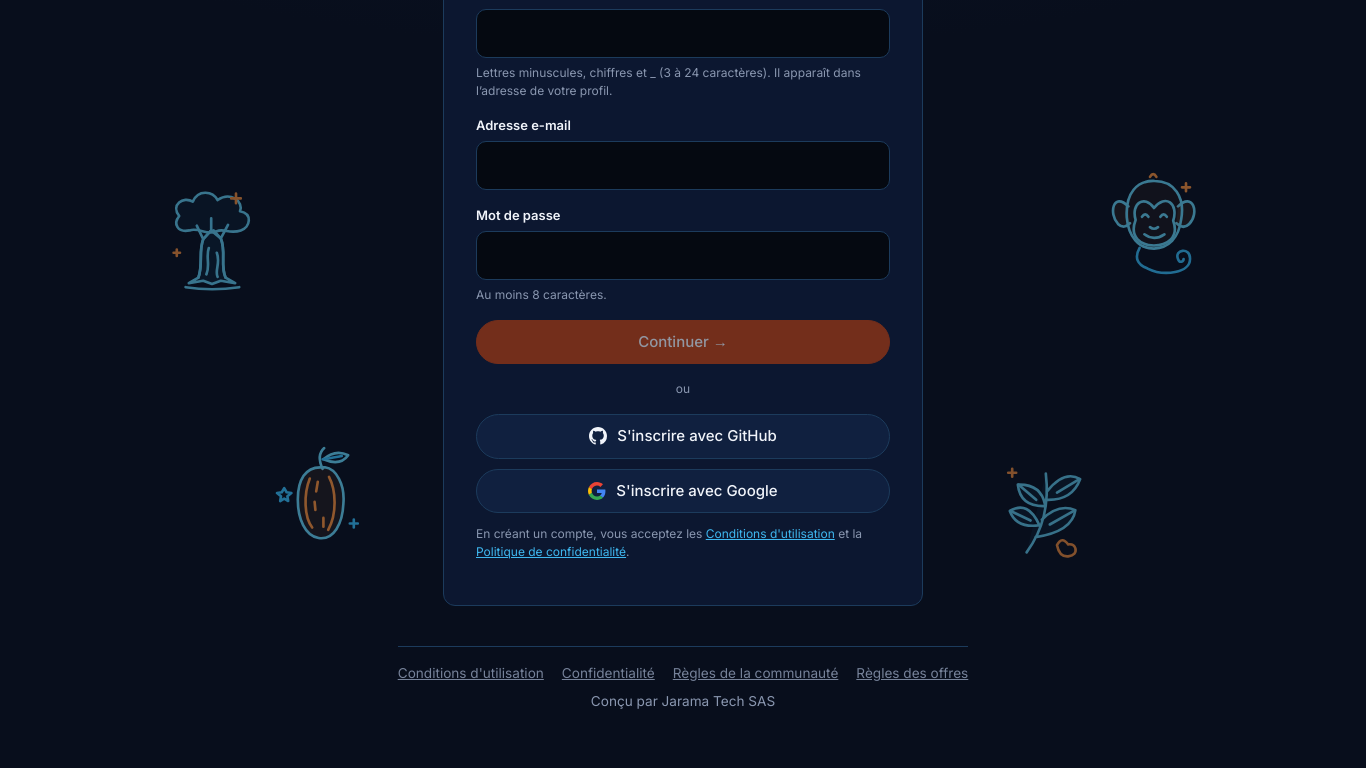
it: GitHub button › is on the sign up page too, and shows a message if it fails
This screenshot has width=1366, height=768.
(page scrolled)
Click the button "S'inscrire avec GitHub" at (683, 436), box [476,414,890,458]
(page scrolled)
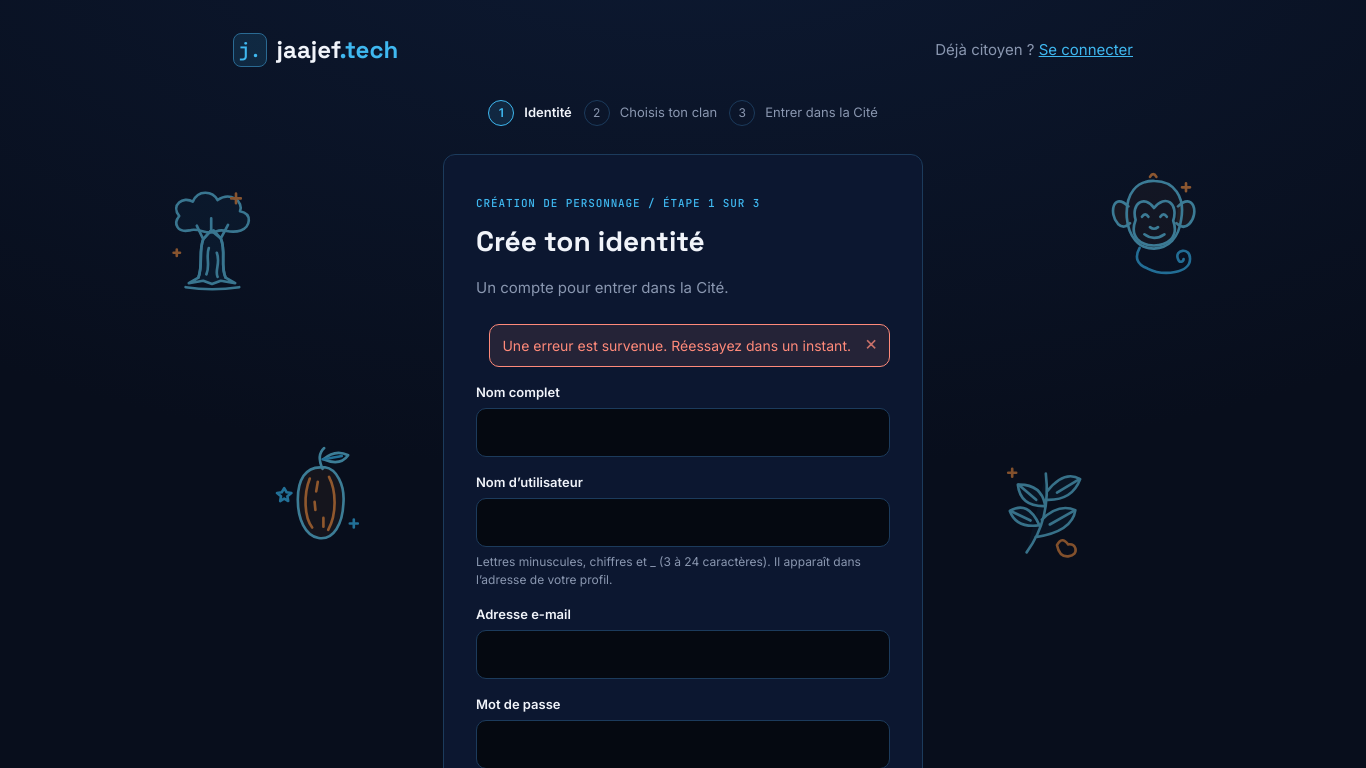
Expected: the message "Une erreur est survenue. Réessayez dans un instant." is shown, [490,324,890,366]
